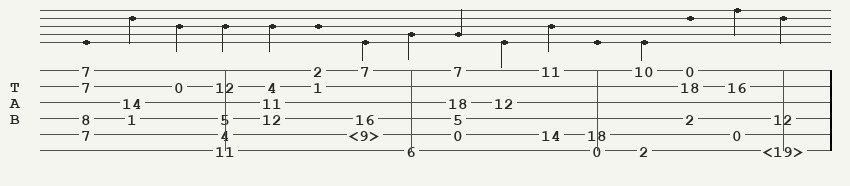0: (174, 79, 188, 93), (453, 127, 467, 141), (592, 143, 606, 157), (685, 63, 699, 77), (732, 127, 746, 141)
1: (127, 111, 141, 125), (313, 79, 327, 93)
10: (634, 63, 658, 77)
11: (215, 143, 239, 157), (262, 95, 286, 109), (541, 63, 565, 77)
12: (215, 79, 239, 93), (262, 111, 286, 125), (494, 95, 518, 109), (773, 111, 797, 125)
14: (122, 95, 146, 109), (541, 127, 565, 141)
16: (355, 111, 379, 125), (727, 79, 751, 93)
18: (448, 95, 472, 109), (587, 127, 611, 141), (680, 79, 704, 93)
2: (313, 63, 327, 77), (639, 143, 653, 157), (685, 111, 699, 125)
4: (220, 127, 234, 141), (267, 79, 281, 93)
5: (220, 111, 234, 125), (453, 111, 467, 125)
6: (406, 143, 420, 157)
7: (81, 63, 95, 77), (81, 79, 95, 93), (81, 127, 95, 141), (360, 63, 374, 77), (453, 63, 467, 77)
8: (81, 111, 95, 125)
harmonic: (763, 143, 808, 157), (349, 127, 384, 141)
